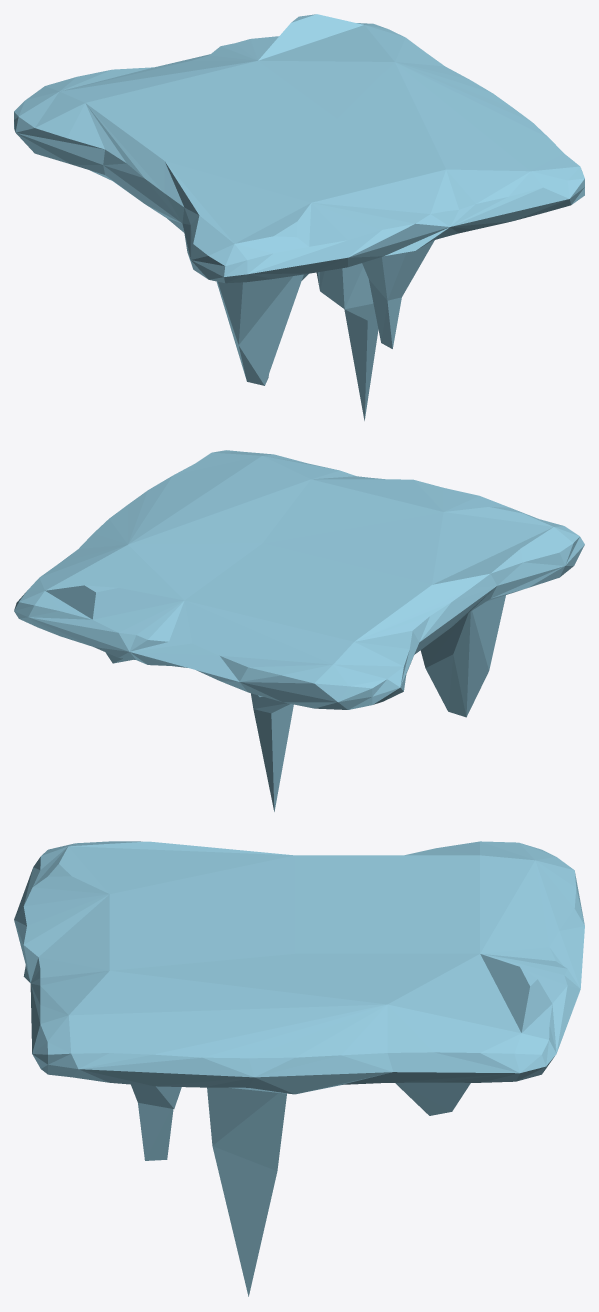
File: SM_FlotingPlatform_1.FBX
3 views of the same model, one above another, from view 1: azimuth 30°, elevation 25°; view 2: azimuth 150°, elevation 25°; view 3: azimuth 270°, elevation 25° (orthographic). The views are drawn at different scales.
Visible parts, largest first — view 1: FloatingPlatform_V2; view 2: FloatingPlatform_V2; view 3: FloatingPlatform_V2.
Boxes of the visible parts, box(x1,y1,x2,y2) form: FloatingPlatform_V2: box(14, 14, 584, 420); FloatingPlatform_V2: box(14, 450, 584, 811); FloatingPlatform_V2: box(14, 841, 584, 1296).
Bounding box in the file's own units: 297 × 218 × 318.
